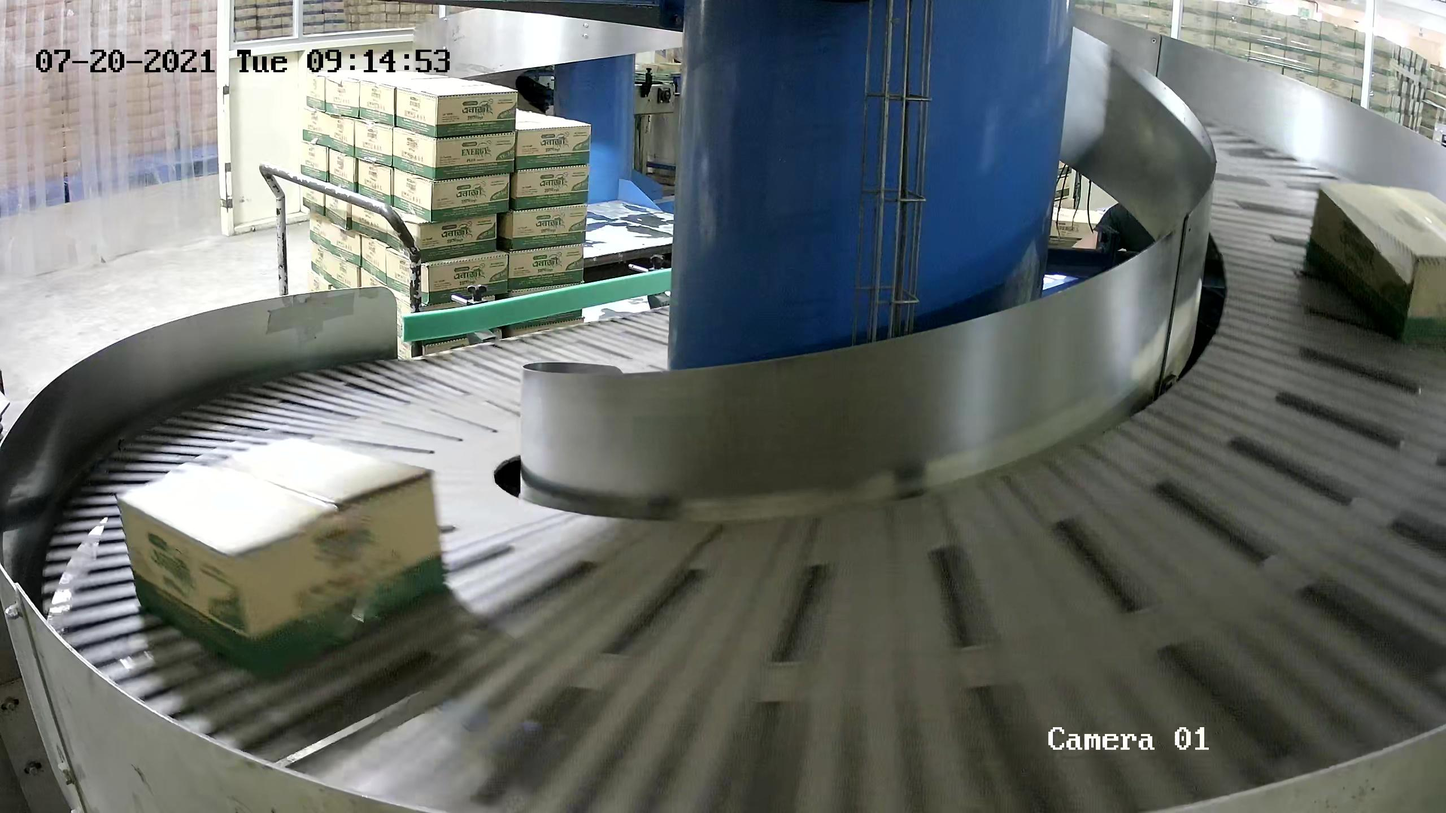Box: (115, 433, 449, 681), (1304, 178, 1446, 347)
